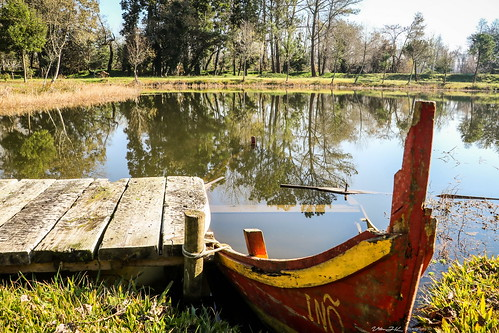boat: (164, 150, 417, 333)
river: (10, 92, 492, 271)
vegetation: (1, 1, 499, 80)
